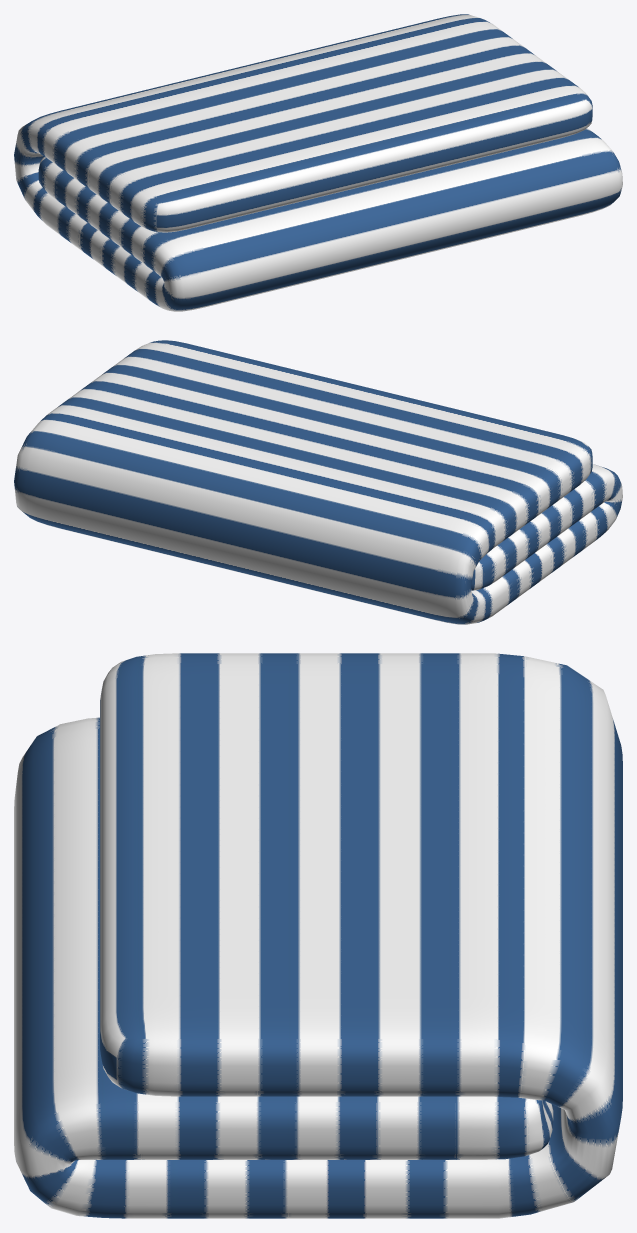
The model's file is blanket.fbx.
3 views of the same model, one above another, from view 1: azimuth 30°, elevation 25°; view 2: azimuth 150°, elevation 25°; view 3: azimuth 270°, elevation 25° (orthographic). The views are drawn at different scales.
Visible parts, largest first — view 1: blanket; view 2: blanket; view 3: blanket.
Boxes of the visible parts, x1,y1,x2,y2 form: blanket: [14, 14, 622, 311]; blanket: [14, 340, 622, 624]; blanket: [14, 653, 622, 1218].
Bounding box in the file's own units: 0.442 × 0.0984 × 0.2848.
1 material, 1 textured.
